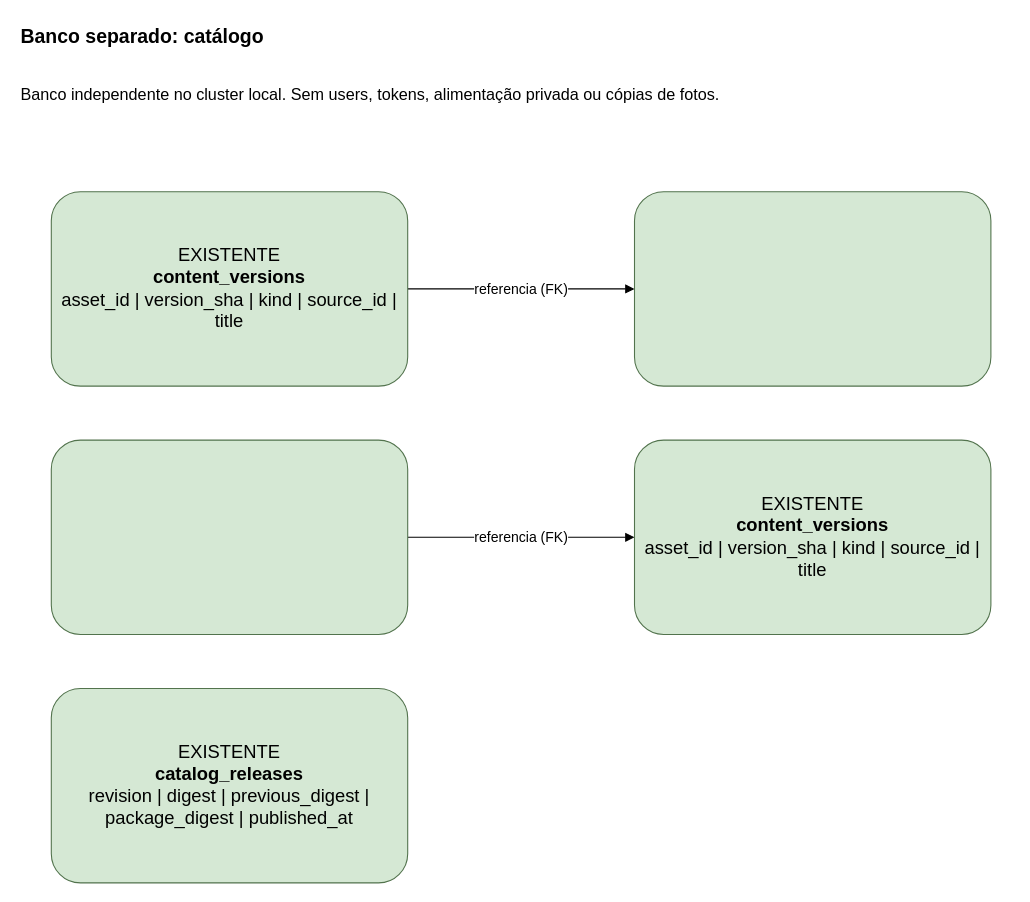
Image size: 1030x902. Some labels were removed from this diagram. The box of each missing label's shape, as (x1, y1, x2, y2) in pixels:
EXISTENTE content_withdrawals asset_id | version_sha | reason | withdrawn_at: (50, 439, 408, 634)
EXISTENTE sources id | name | publisher | urls | created_at: (633, 191, 991, 386)
